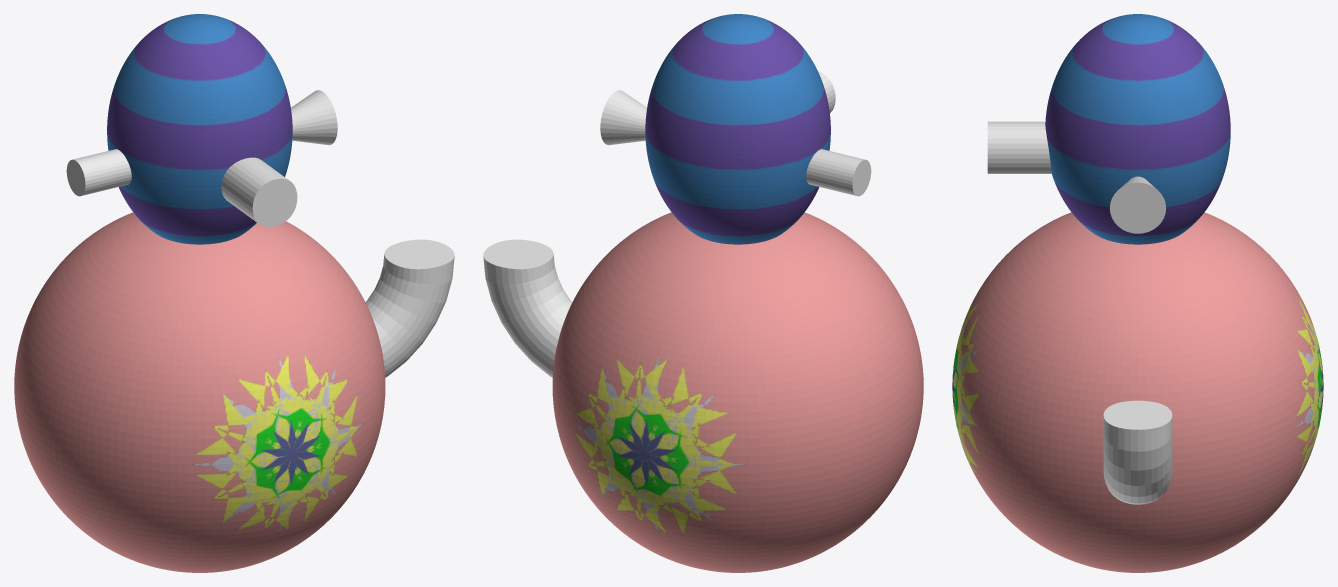
Rendered from BOD0_BMC1_BCC11_BPT0_FRC20_HEA2_HMC8_HCC9_HPT1_ELT1_ERT3_ELL1_ERL0_AP2_AAL1_AAR0_BEK1.fbx.
3 renders of one model, left to right at view 1: azimuth 30°, elevation 25°; view 2: azimuth 150°, elevation 25°; view 3: azimuth 270°, elevation 25°, orthographic.
Parts seen in each view (by area): view 1: Body, Arm, Beak, Ear, Ear.001; view 2: Body, Arm, Ear, Ear.001; view 3: Body, Arm, Beak, Ear.001.
Boxes of the visible parts, x1,y1,x2,y2 form: Body: [14, 14, 385, 572]; Arm: [365, 239, 454, 377]; Beak: [221, 157, 297, 226]; Ear: [66, 149, 131, 196]; Ear.001: [291, 90, 337, 145]; Body: [552, 14, 923, 572]; Arm: [483, 239, 572, 377]; Ear: [806, 149, 871, 196]; Ear.001: [600, 90, 646, 145]; Body: [952, 14, 1323, 572]; Arm: [1103, 400, 1172, 504]; Beak: [987, 121, 1051, 173]; Ear.001: [1109, 176, 1166, 233].
Bounding box in the file's own units: 62.99 × 78.65 × 49.36.
1 material, 1 textured.
